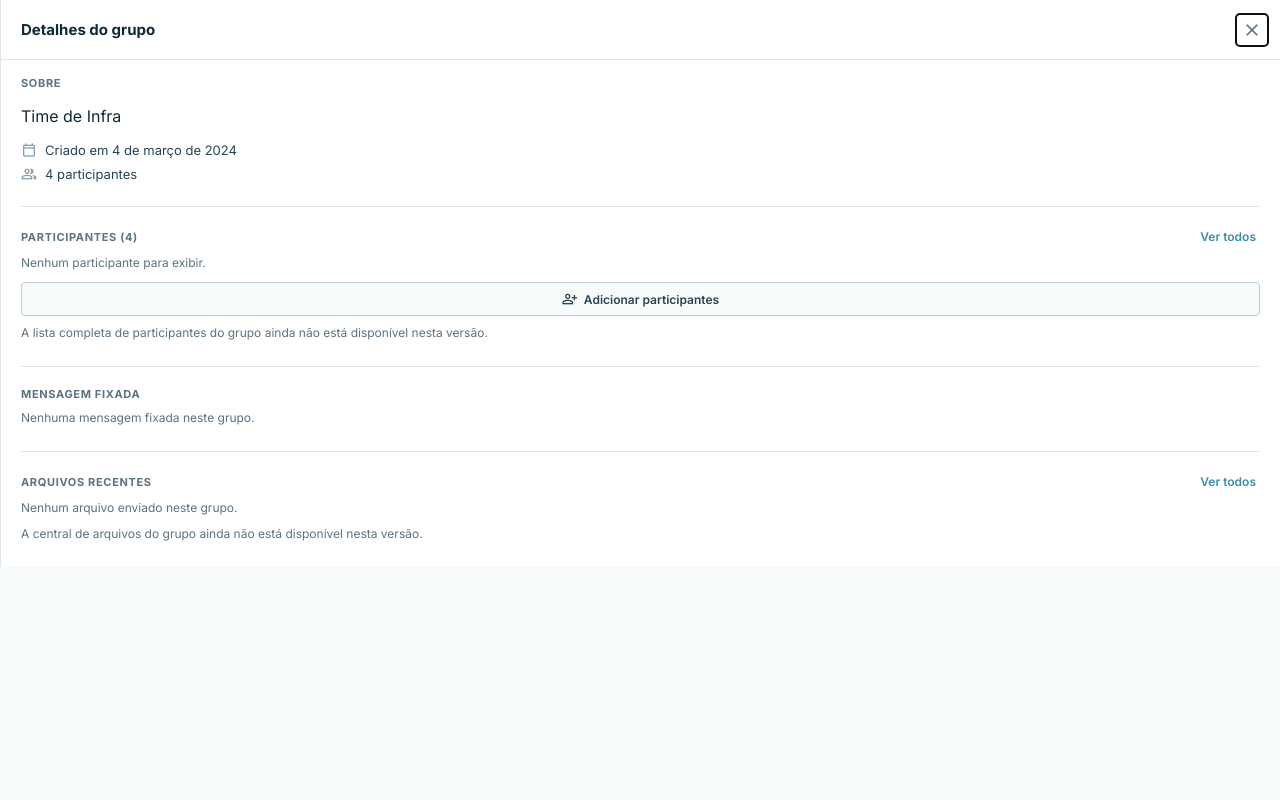
Test case: ConversationDetailsPanel — adicionar membros: fluxo › uses the group's wording in the success notice
Click the button with test id "chat-details-add-members".
click(640, 299)  # box [21,282,1260,316]
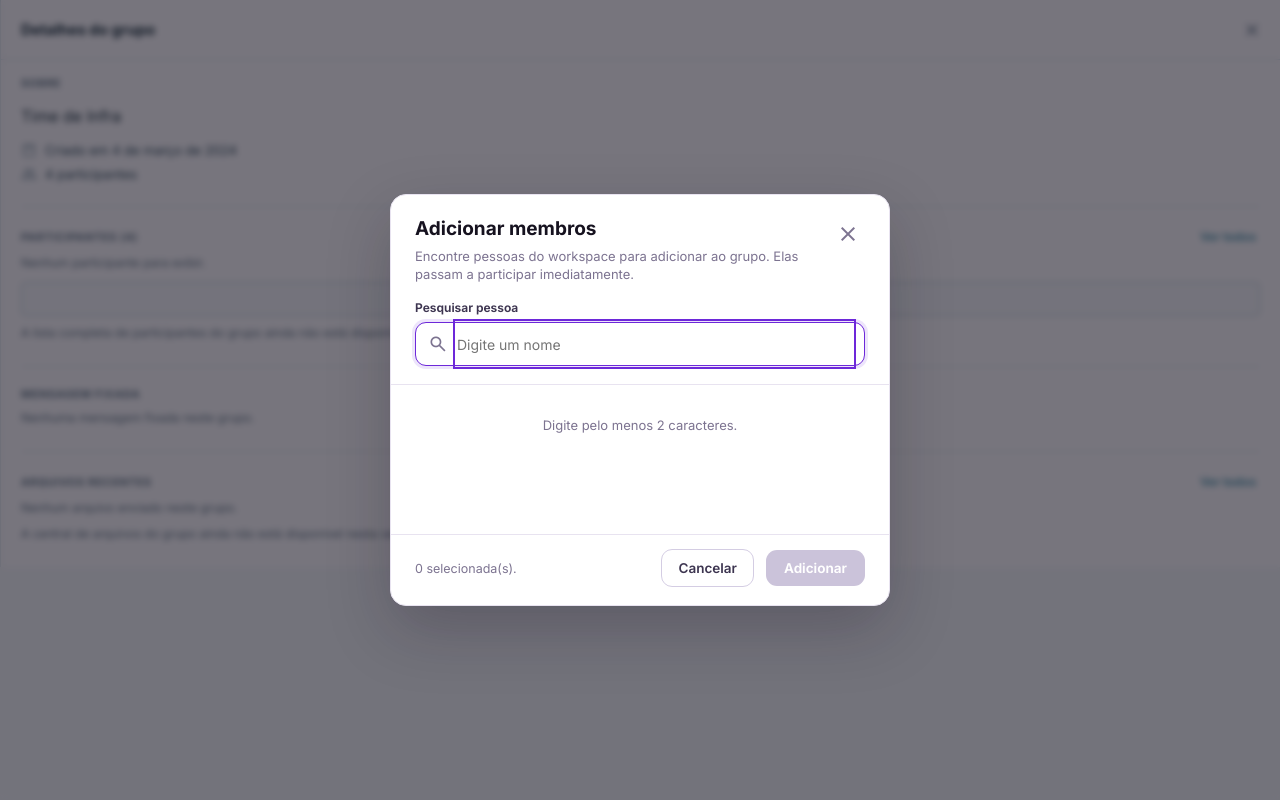
Type "br" into the search field labelled "Pesquisar pessoa".
click(654, 344); type("br")  # box [457,323,852,365]
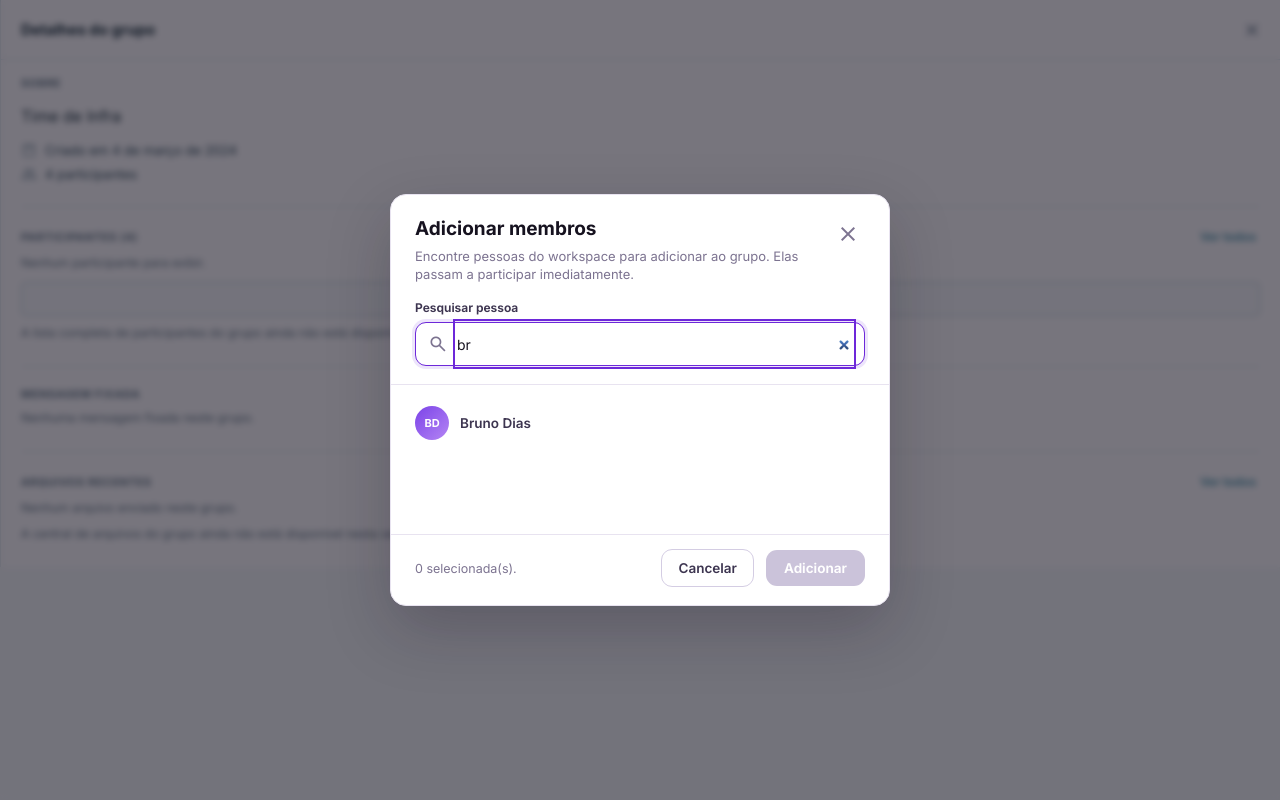
Click the button "BD Bruno Dias".
click(432, 423)  # box [405,397,875,449]
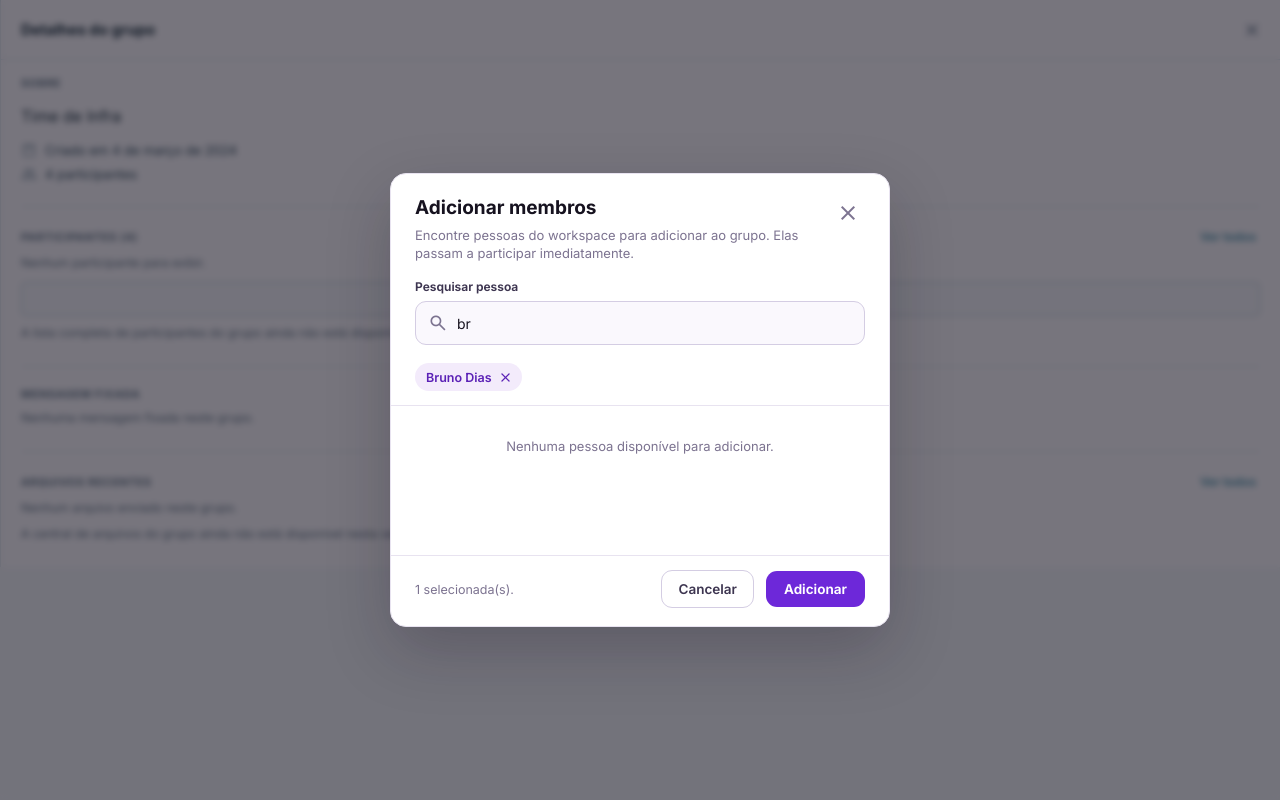
Click the button "Adicionar".
click(815, 589)  # box [766,571,865,607]
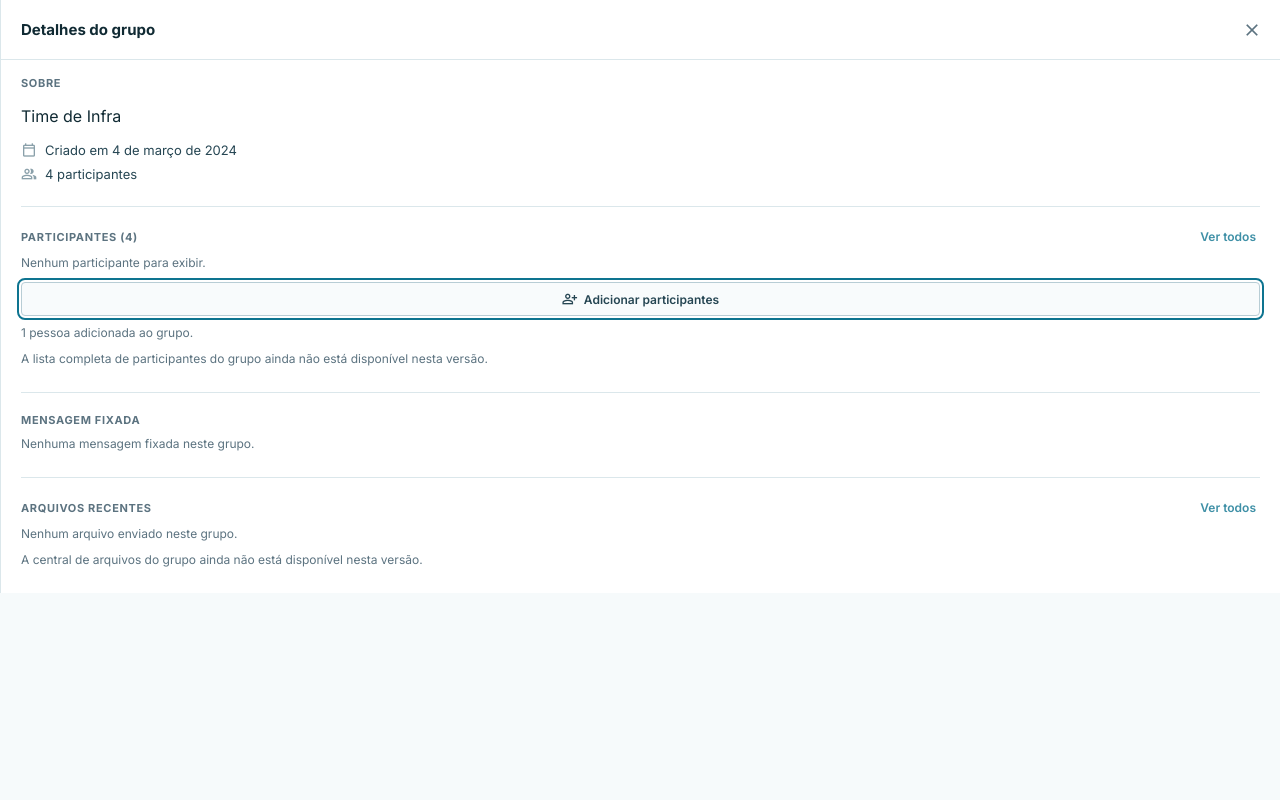
Result: the text "1 pessoa adicionada ao grupo." is shown at [21,325,193,340]
